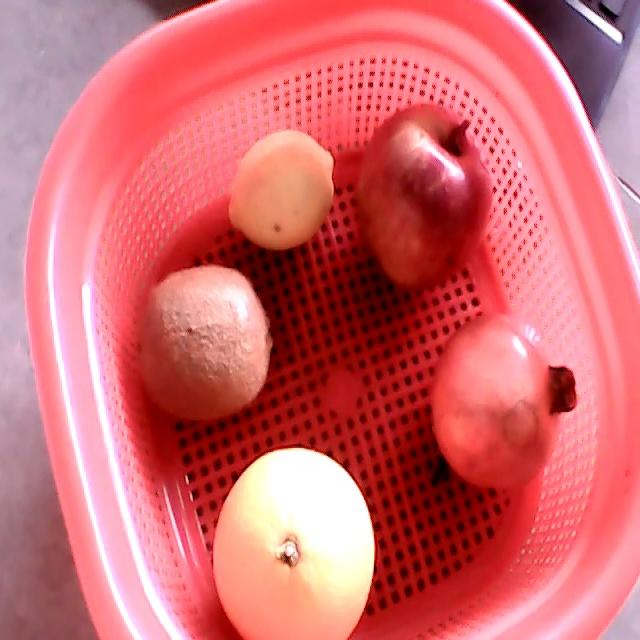apple: (357, 104, 493, 292)
kiwi: (137, 266, 271, 419)
lemon: (227, 128, 335, 250)
orange: (212, 449, 374, 639)
pomegranate: (432, 311, 578, 490)
